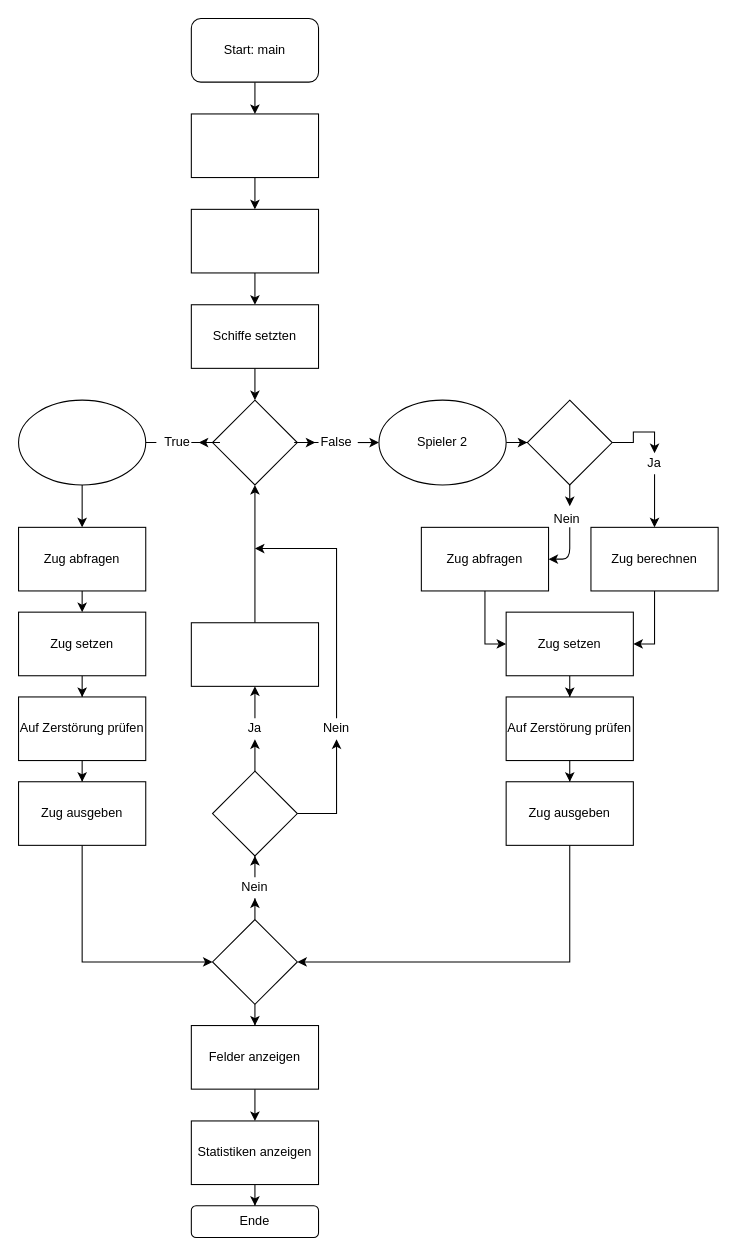
Image size: 737x1256. Some labels were removed from this diagram. The shapes that lost their labels are listed below. From the top down, each one's box as (x1, y1, x2, y2) in pixels, then its label:
(190, 113, 319, 178): Intro zeichnen
(190, 208, 319, 273): Einstellungen abfragen
(17, 399, 146, 485): Spieler 1
(211, 399, 297, 485): player_turn
(526, 399, 612, 485): KI?
(190, 622, 319, 686): toggle player_turn
(211, 770, 297, 856): Treffer?
(211, 918, 297, 1004): Gewonnen?
